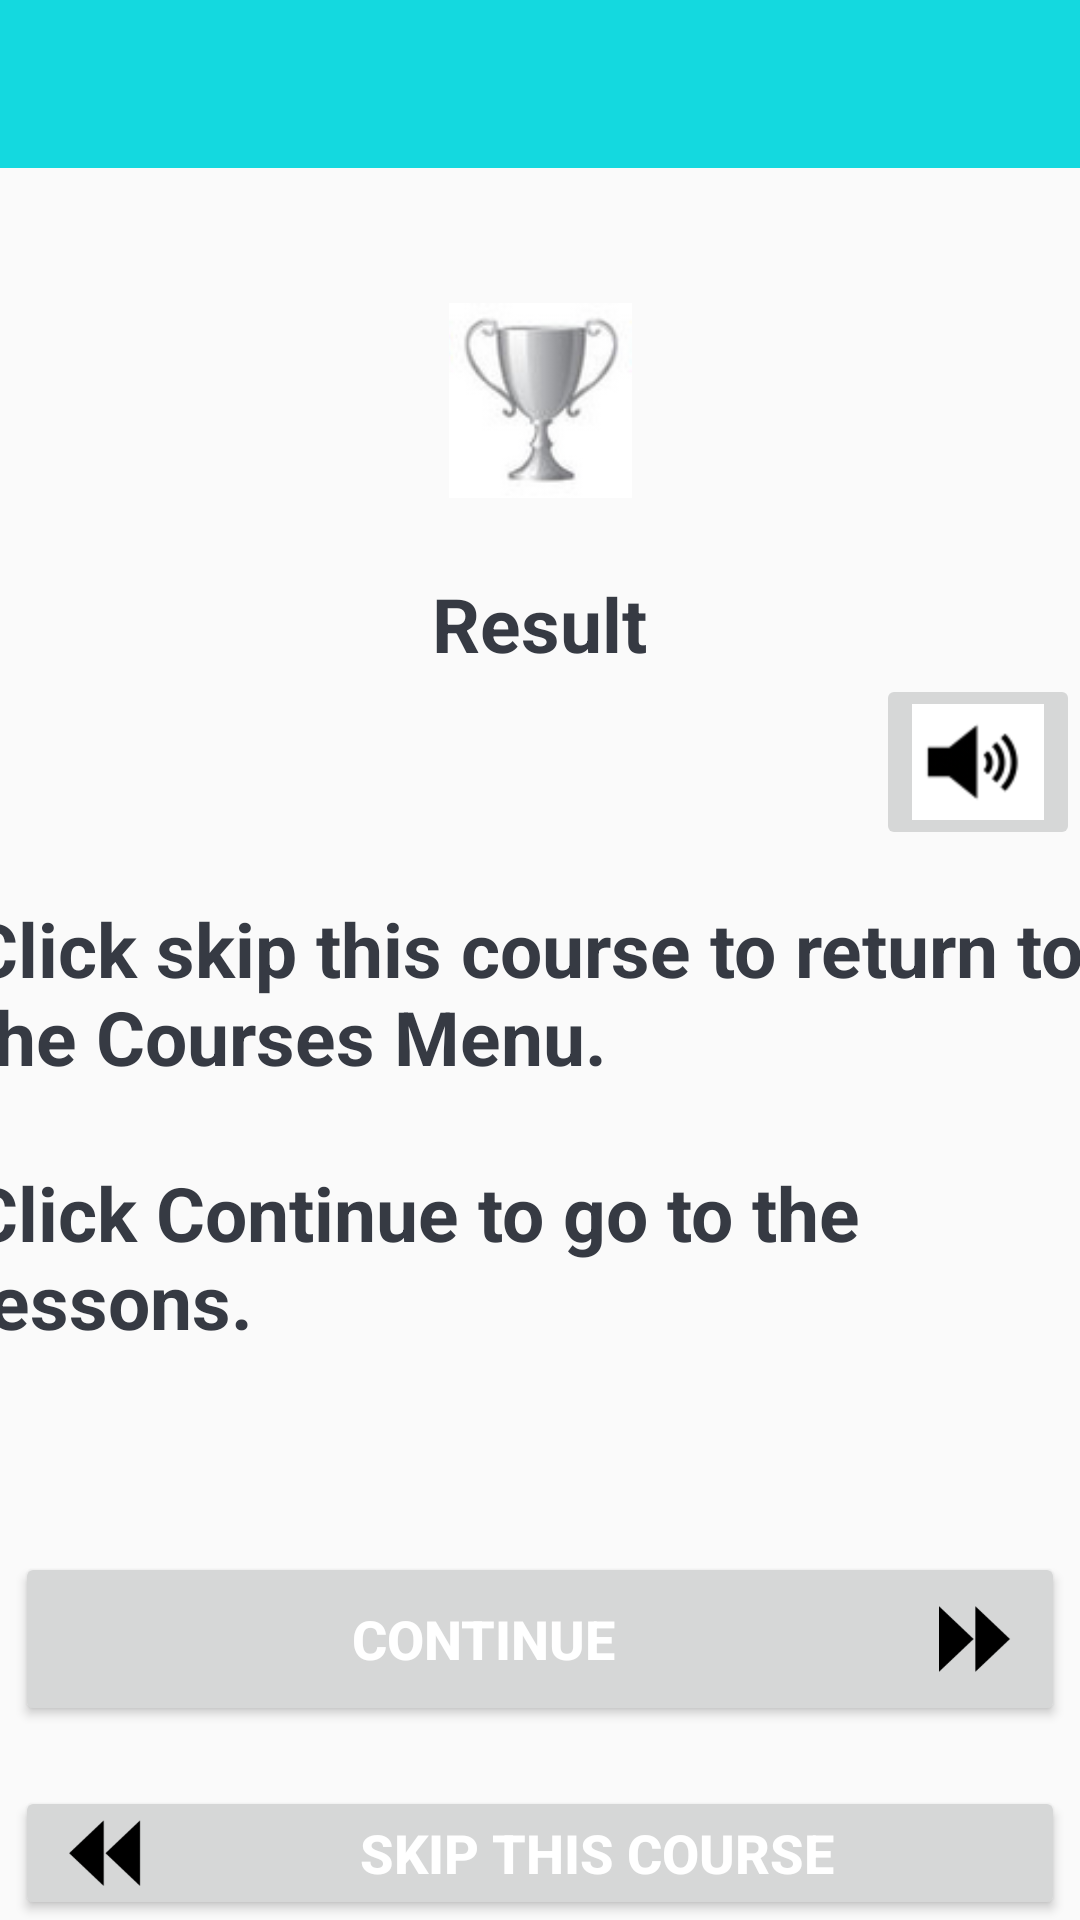

Named icons in this screenshot (1080x1920) and their centers, (x,y):
silvertrophy: (541,400)
sound: (978,762)
